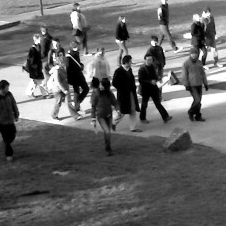person: (138, 54, 173, 123), (91, 79, 121, 157), (112, 54, 141, 132), (48, 55, 82, 120), (183, 47, 207, 121), (65, 40, 89, 112), (143, 36, 166, 102), (1, 80, 19, 162), (28, 33, 50, 99), (157, 1, 183, 53), (202, 7, 223, 67), (70, 3, 92, 56), (190, 13, 209, 69), (91, 46, 112, 90), (39, 26, 52, 89), (115, 15, 129, 65), (47, 36, 65, 70)
